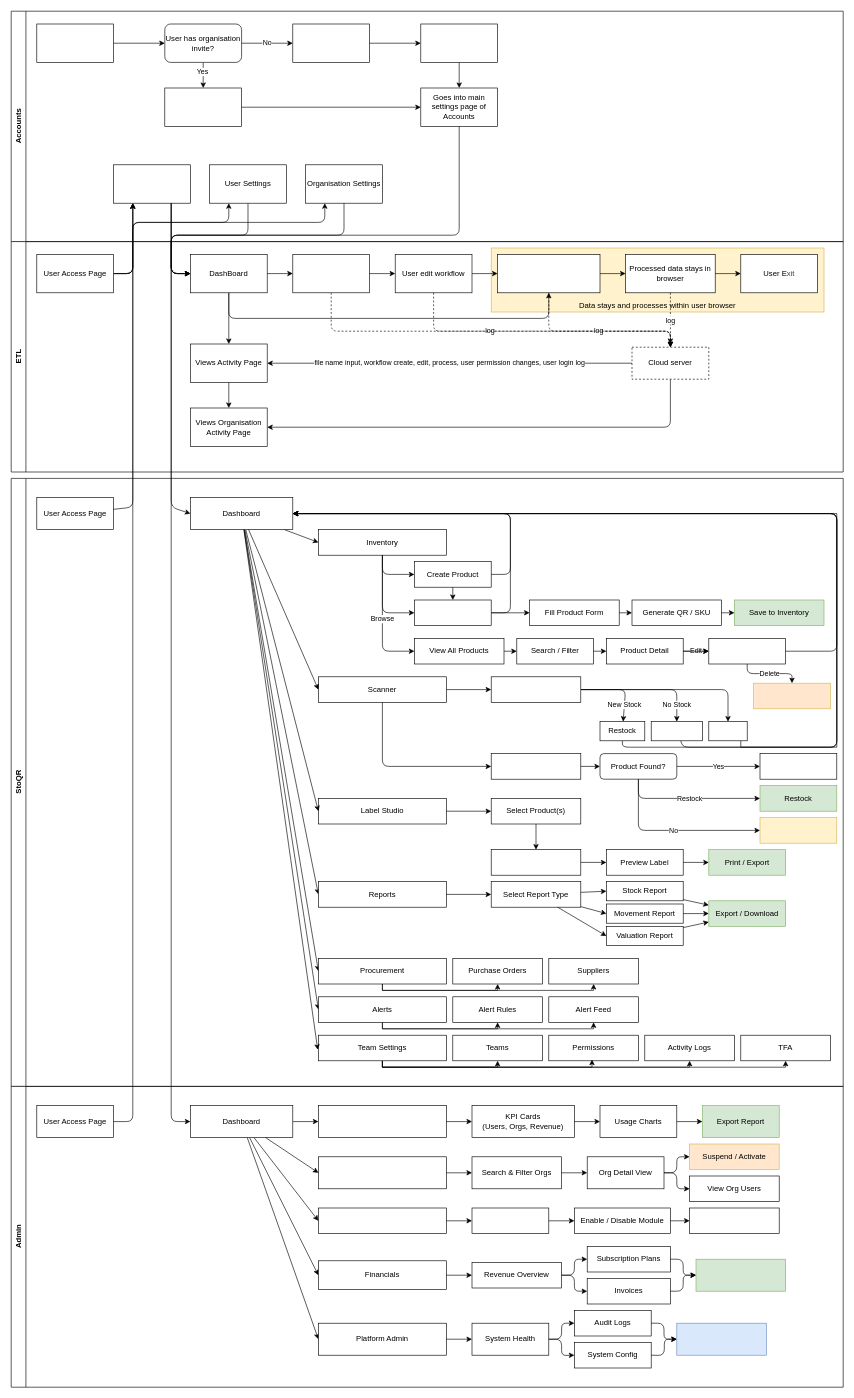
Image size: 854x1398. Some labels were removed from this diagram. The centre of each missing label's shape, as x and y in pixels:
Application Mgmt: pixel 382 1220
Backup & Restore: pixel 721 1339
Create New Product: pixel 798 830
Customise Label: pixel 536 862
Decide Organisation Plan: pixel 459 42
Delete Product: pixel 791 696
Edit Product: pixel 747 651
Feature Flags: pixel 510 1220
Glocal Overview: pixel 382 1121
Low Stock: pixel 676 731
Organisation List: pixel 382 1172
Payout Settings: pixel 740 1275
Scan Product QR code: pixel 536 689
Scan QR / Barcode: pixel 536 766
Update: pixel 727 731
Update Product: pixel 452 612
Update Qty: pixel 798 766
User confirm to join Organisation: pixel 203 106
User create new workflow: pixel 331 273
User create organisation: pixel 331 42
User import csv into workflow to process: pixel 548 273
User Login: pixel 151 183
User signup: pixel 75 42
Version Control / Release Notes: pixel 734 1220
